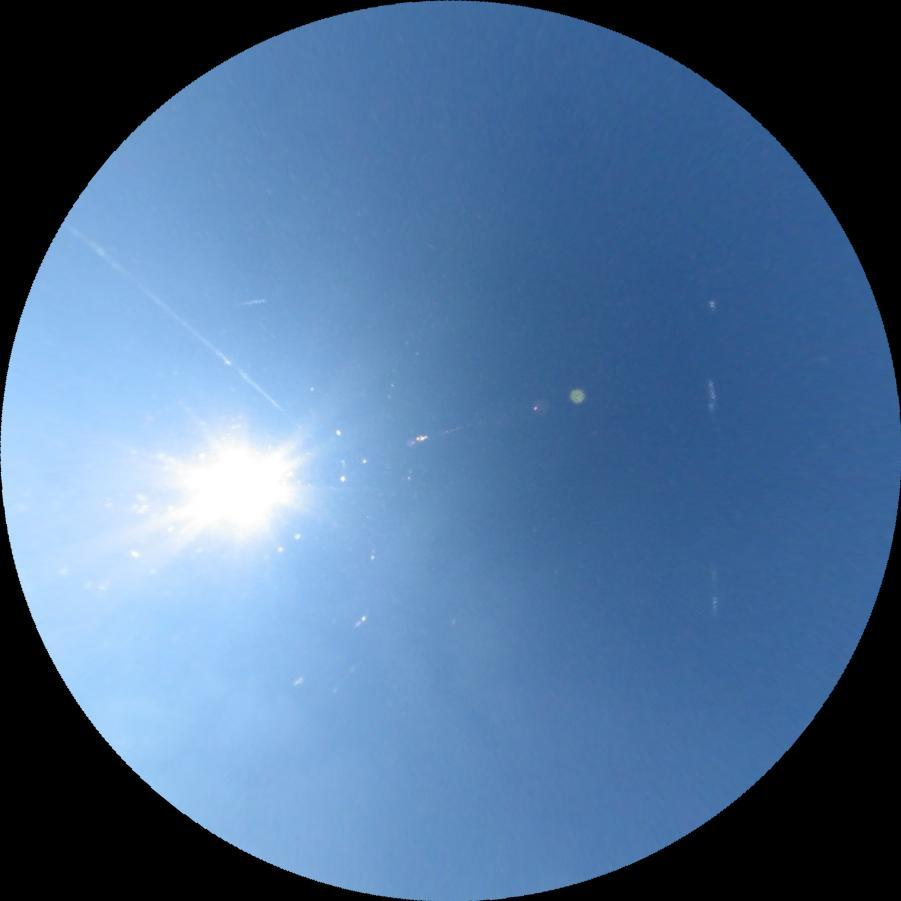contrail young: (233, 296, 268, 309)
parasite: (64, 218, 293, 420), (710, 562, 720, 614), (706, 369, 717, 414)
sun: (168, 435, 297, 536)
